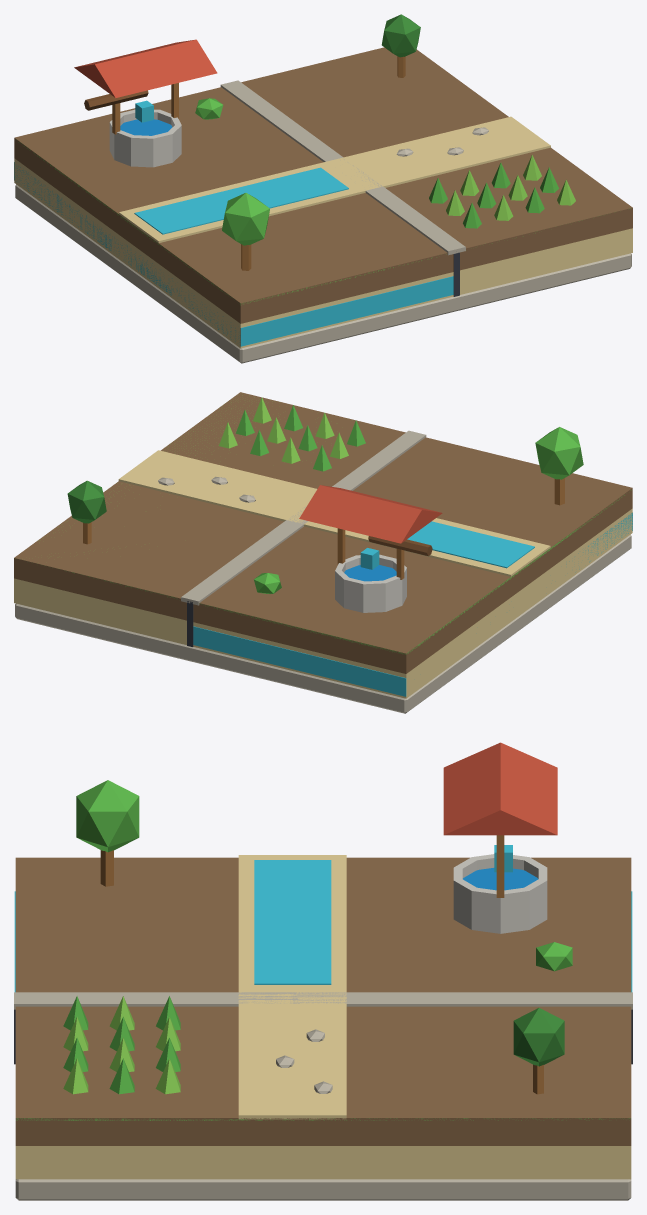
File: underground_dam.glb
3 renders of one model, top to bottom at view 1: azimuth 30°, elevation 25°; view 2: azimuth 150°, elevation 25°; view 3: azimuth 270°, elevation 25°, orthographic. The views are drawn at different scales.
Parts seen in each view (by area): view 1: corpo, gira_1.001; view 2: corpo, gira_1.001; view 3: corpo.
Boxes of the visible parts, left/top/right/bottom form: corpo: left=14, top=14, right=632, bottom=363; gira_1.001: left=84, top=90, right=148, bottom=110; corpo: left=14, top=392, right=632, bottom=713; gira_1.001: left=368, top=536, right=432, bottom=556; corpo: left=14, top=742, right=632, bottom=1200.
Bounding box in the file's own units: 4 × 1.58 × 4.02.
